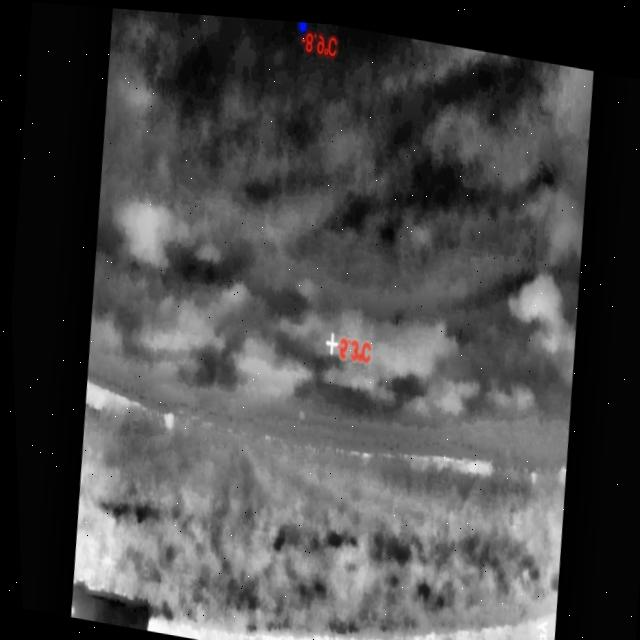drone: (293, 401, 301, 418)
